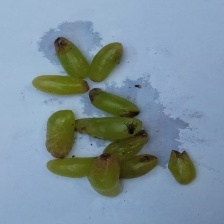grapes: (24, 29, 166, 202)
